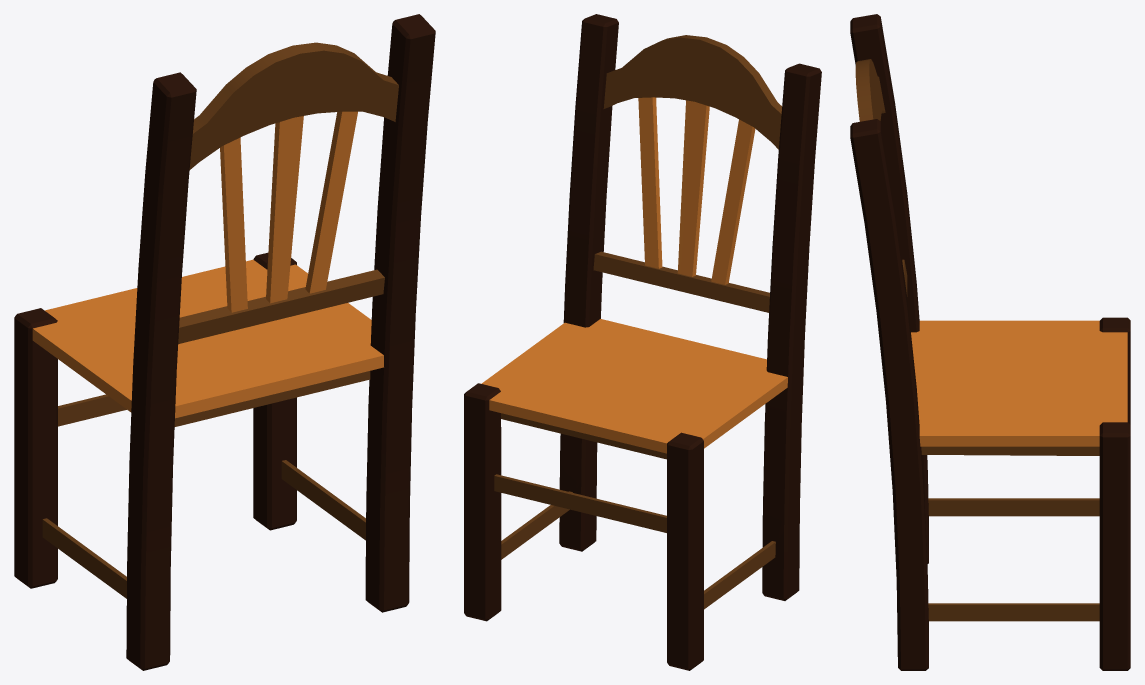
The model's file is SM_Chaise.fbx.
The picture shows the model from 3 angles, left to right: view 1: azimuth 30°, elevation 25°; view 2: azimuth 150°, elevation 25°; view 3: azimuth 270°, elevation 25°; orthographic projection. The views are drawn at different scales.
Visible parts, largest first — view 1: SM_Chaise; view 2: SM_Chaise; view 3: SM_Chaise.
Boxes of the visible parts, <box> form: SM_Chaise: <box>14,14,435,670</box>; SM_Chaise: <box>464,14,821,670</box>; SM_Chaise: <box>850,14,1130,670</box>.
Size of the model in its own units: 0.5197 by 1.12 by 0.5225.
